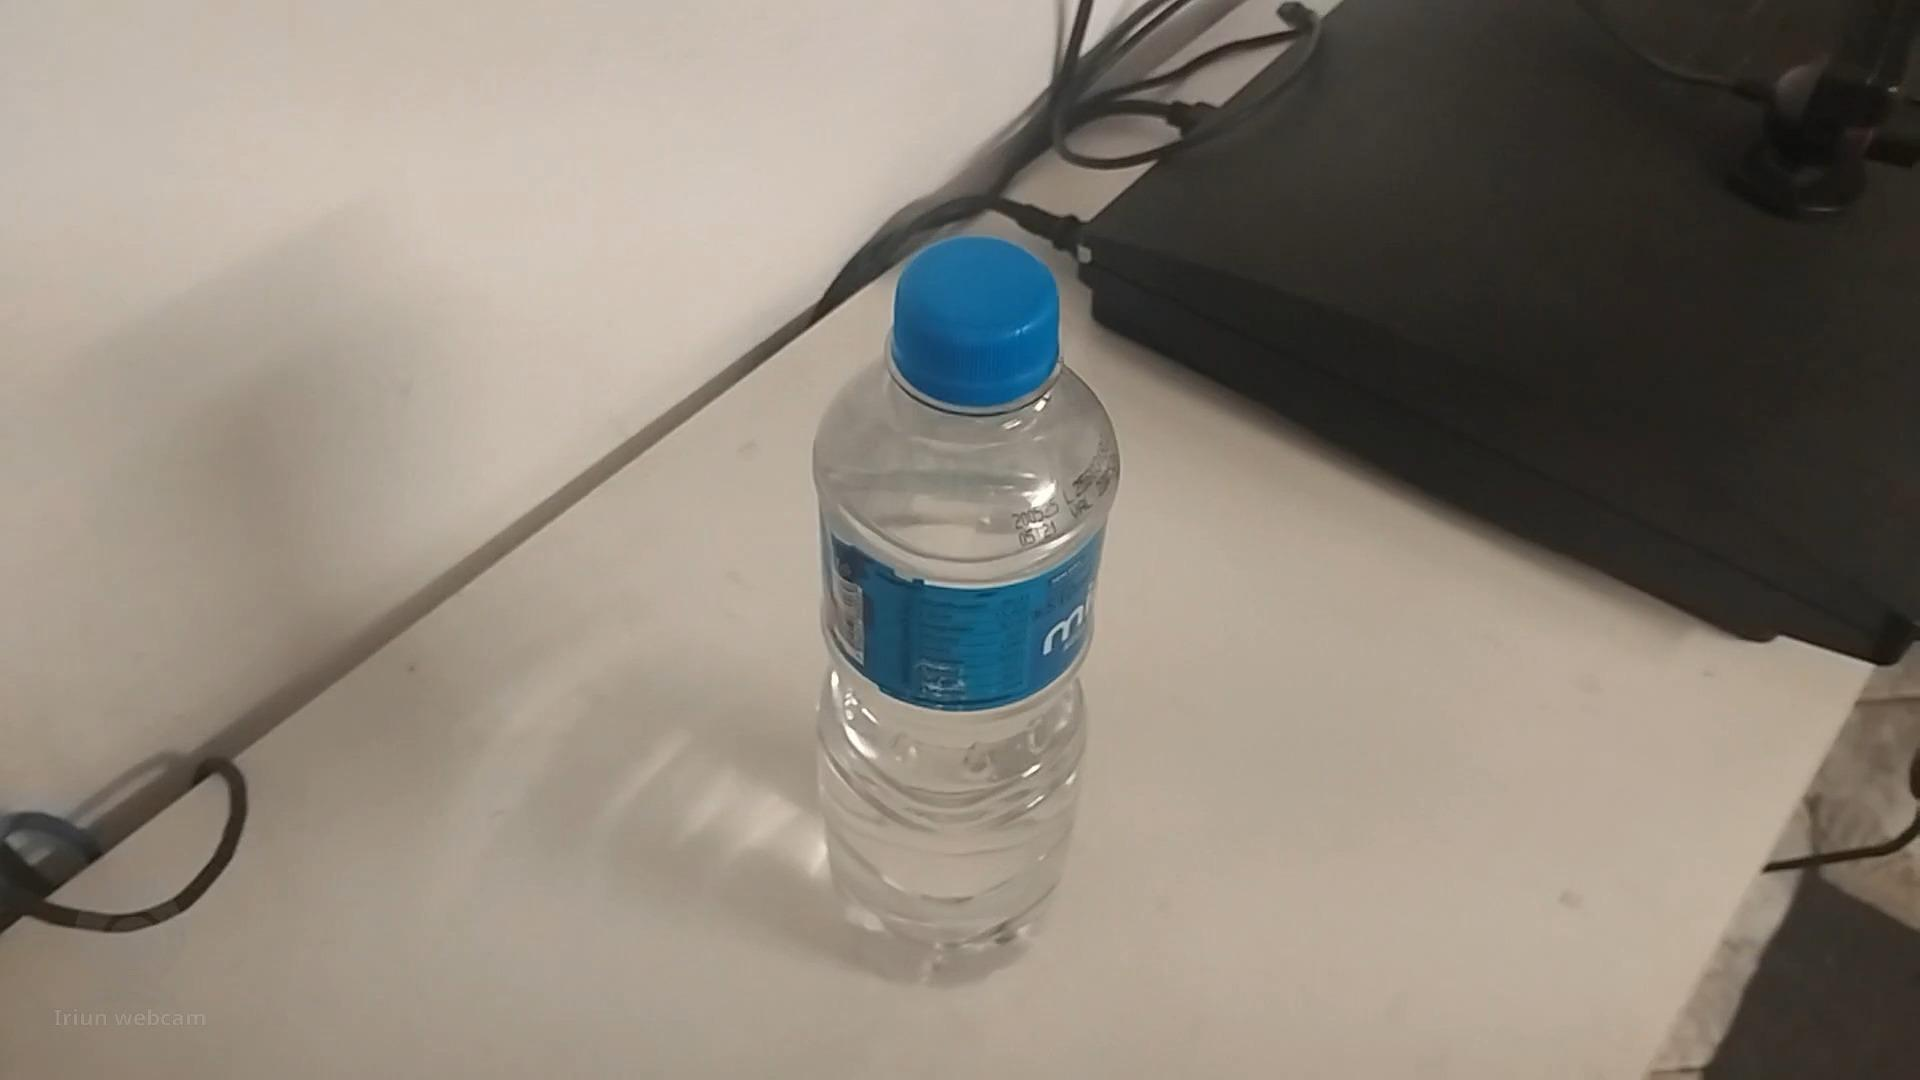agua: (812, 233, 1112, 952)
